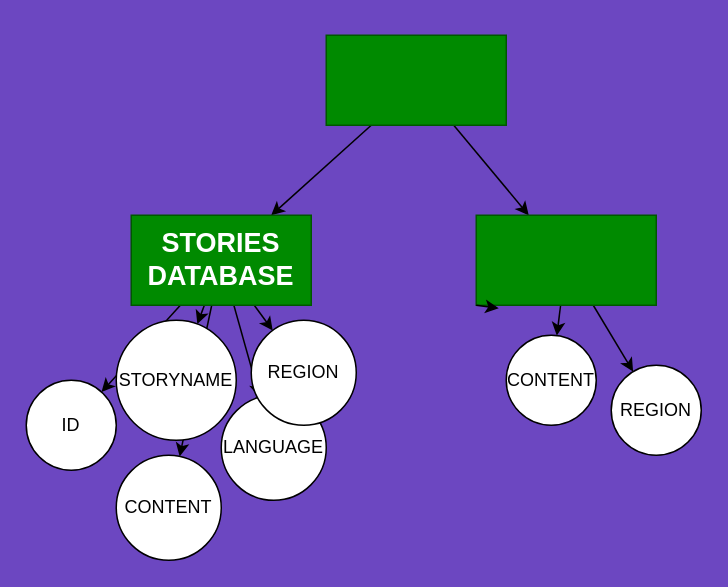
Some shapes in this 728 by 587 pixel diagram are drawn without their labels. Here are the shapes that lost their labels. From the top down, the box of each, then its label:
(325, 34, 506, 125): TESTING ON PSQL
(475, 214, 656, 305): FORM DATABASE
